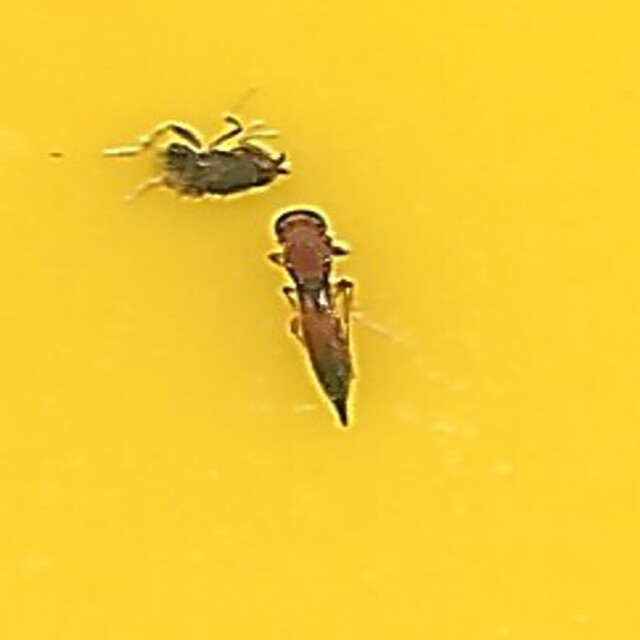Hymenoptera: (264, 207, 376, 433)
